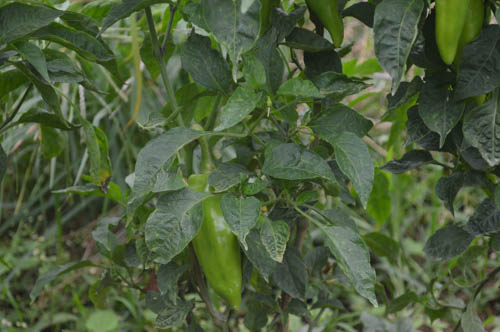ChiliPepper: (187, 173, 245, 304)
